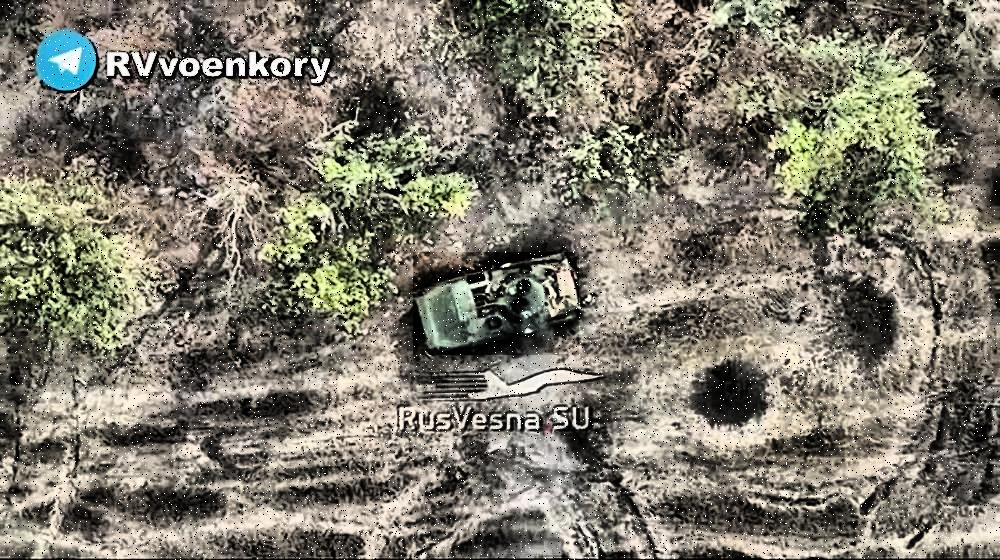military-vehicle: (414, 252, 580, 355)
